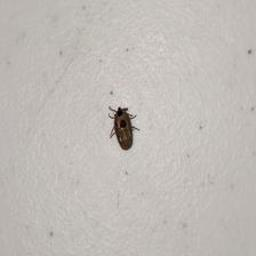Rhipicephalus sanguineus: (107, 106, 140, 152)
